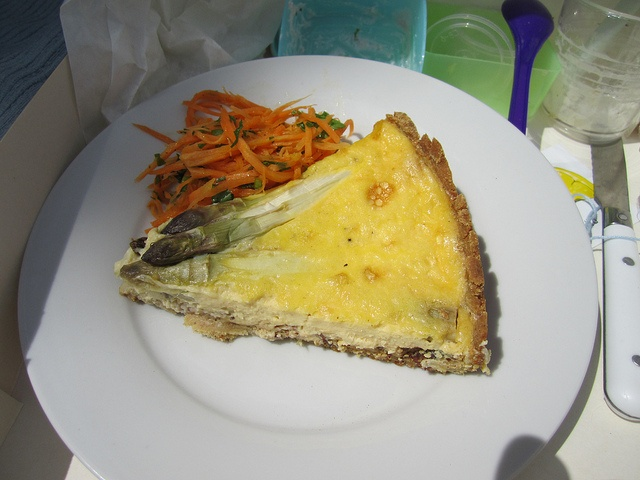Pizza: (91, 106, 565, 396)
